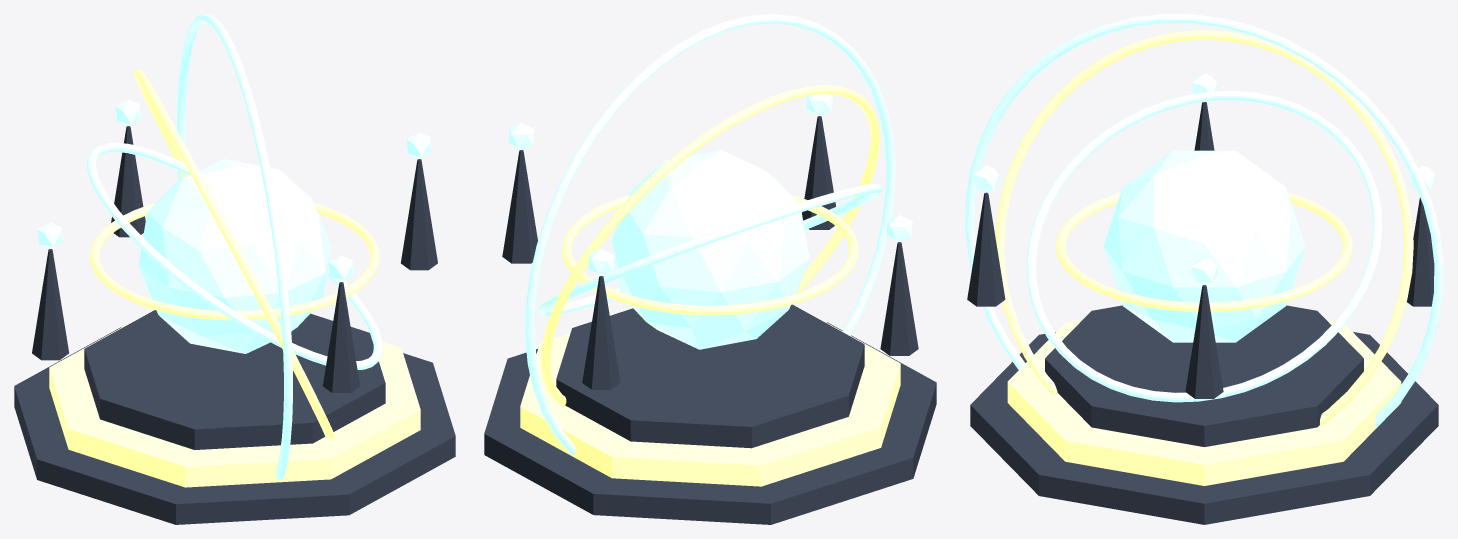
The model's file is gpu-blender-v4.glb.
The picture shows the model from 3 angles, left to right: view 1: azimuth 30°, elevation 25°; view 2: azimuth 150°, elevation 25°; view 3: azimuth 270°, elevation 25°; orthographic projection. The views are drawn at different scales.
Visible parts, largest first — view 1: Cylinder.002, SovereignCore_cron-rhythm-studio, Cylinder, Cylinder.001, Torus.003, Torus.001, Torus.002, Torus, Cone, Cone.002, Cone.003, Cone.001 (+4 smaller); view 2: Cylinder.002, SovereignCore_cron-rhythm-studio, Cylinder, Cylinder.001, Torus.003, Torus.002, Torus, Torus.001, Cone.001, Cone.002, Cone, Cone.003 (+3 smaller); view 3: SovereignCore_cron-rhythm-studio, Cylinder.002, Cylinder, Cylinder.001, Torus.001, Torus.003, Torus.002, Torus, Cone.003, Cone, Cone.001, Cone.002 (+2 smaller).
Boxes of the visible parts, x1,y1,x2,y2 form: Cylinder.002: (84,310,385,449); SovereignCore_cron-rhythm-studio: (138,159,331,353); Cylinder: (14,327,455,524); Cylinder.001: (49,318,420,487); Torus.003: (177,14,292,480); Torus.001: (87,142,382,369); Torus.002: (134,69,334,438); Torus: (90,203,379,320); Cone: (401,159,437,270); Cone.002: (32,249,68,360); Cone.003: (323,282,359,392); Cone.001: (111,126,145,237); Cylinder.002: (556,304,864,448); SovereignCore_cron-rhythm-studio: (611,150,809,349); Cylinder: (484,322,936,524); Cylinder.001: (520,313,900,486); Torus.003: (525,14,895,455); Torus.002: (541,84,879,406); Torus: (562,195,858,315); Torus.001: (539,183,881,315); Cone.001: (582,276,620,389); Cone.002: (880,242,918,355); Cone: (502,150,537,263); Cone.003: (802,116,835,229); SovereignCore_cron-rhythm-studio: (1103,150,1305,342); Cylinder.002: (1045,305,1363,446); Cylinder: (970,332,1438,524); Cylinder.001: (1007,320,1401,485); Torus.001: (1026,91,1382,402); Torus.003: (965,14,1443,427); Torus.002: (995,30,1413,426); Torus: (1056,192,1352,311); Cone.003: (967,192,1005,306); Cone: (1185,285,1223,398); Cone.001: (1407,197,1434,306); Cone.002: (1194,102,1214,150).
Bounding box in the file's own units: 4.41 × 4.7 × 4.49.
